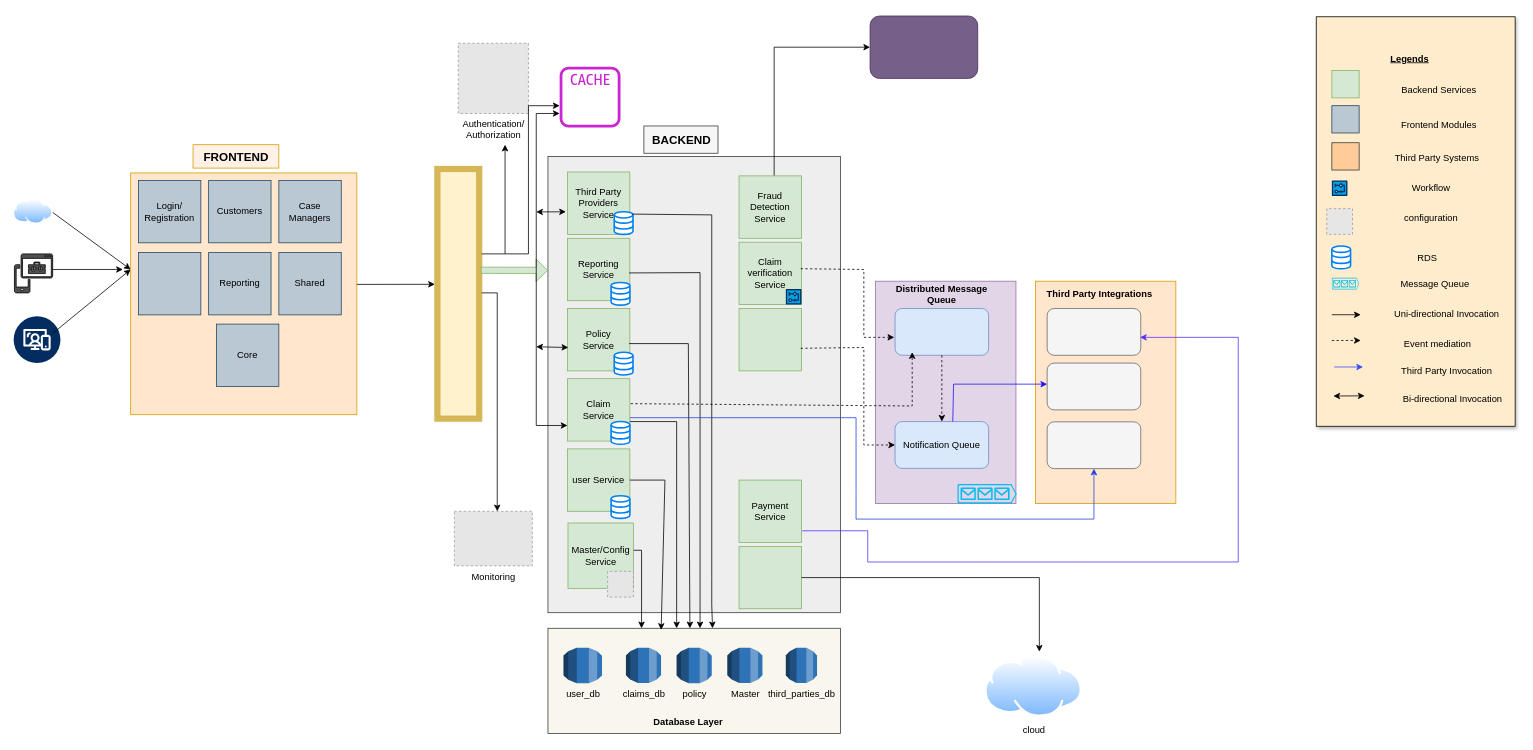
The diagram is 1533 pixels wide and 750 high, and some of its shapes have lost their labels. Grey dashed boxes stand in for pictures. Here are the shapes that lost their labels. From the top down, the centre of each, then its label:
the point at 923,46: AI/ML module
the point at 169,283: TPP (third party providers)
the point at 458,293: API GATEWAY
the point at 769,339: Notification Service
the point at 941,331: Claim Status Queue
the point at 1093,331: Banking & Payment Systems
the point at 1093,386: Email And SMS
the point at 1093,445: Legal & Medical Services
the point at 769,577: Document Management Service
